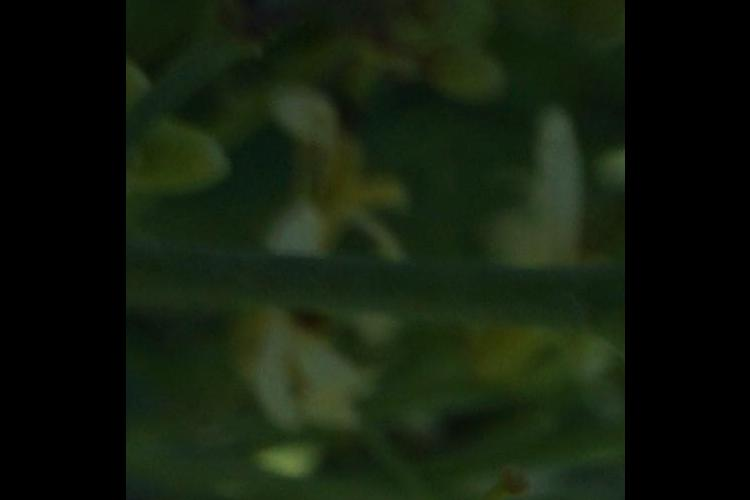pod: (412, 454, 537, 500)
